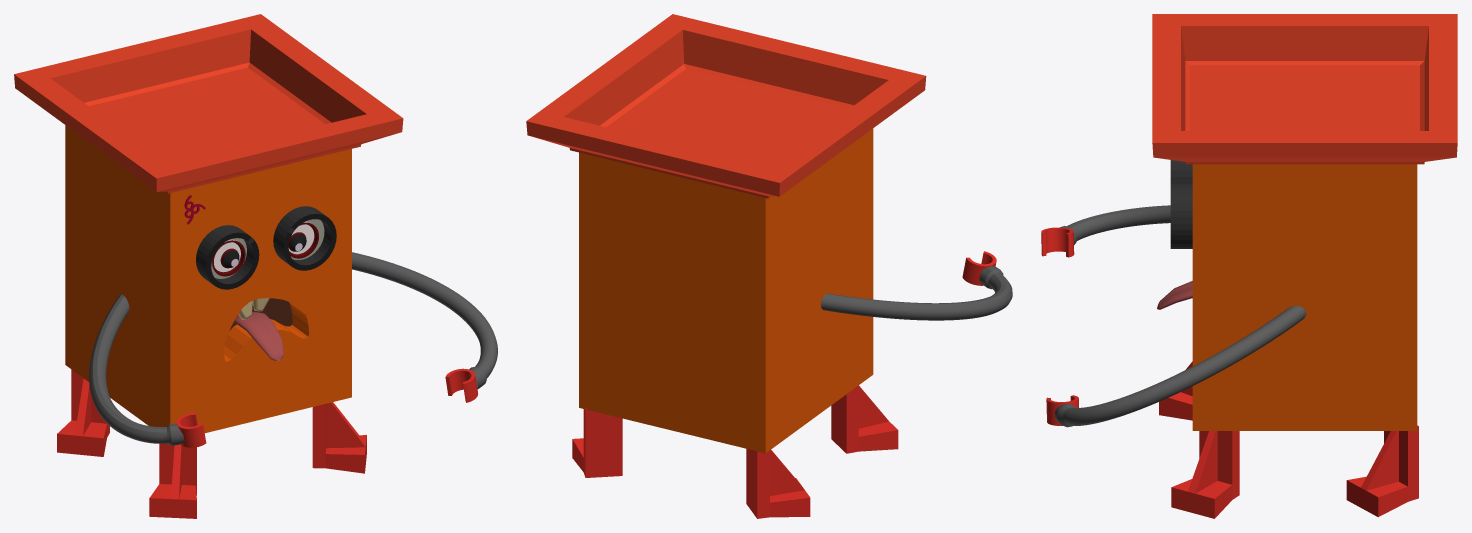
File: monster_sampah_fix.fbx
3 renders of one model, left to right at view 1: azimuth 30°, elevation 25°; view 2: azimuth 150°, elevation 25°; view 3: azimuth 270°, elevation 25°, orthographic. The views are drawn at different scales.
Visible parts, largest first — view 1: Cube.141, Cylinder.043, NurbsPath.001, NurbsPath, Cube.136, Cube.134, Cube.135, Cylinder.042, Cylinder.040, Cylinder.041, Cube.138; view 2: Cube.141, NurbsPath, Cube.135, Cube.134, Cube.137, Cylinder.041; view 3: Cube.141, NurbsPath.001, Cube.137, Cube.136, Cylinder.043, NurbsPath, Cylinder.041, Cube.134, Cylinder.042.
Boxes of the visible parts, left/top/right/bottom form: Cube.141: left=14, top=14, right=403, bottom=433; Cylinder.043: left=196, top=206, right=336, bottom=289; NurbsPath.001: left=352, top=252, right=497, bottom=389; NurbsPath: left=89, top=294, right=184, bottom=445; Cube.136: left=312, top=402, right=366, bottom=473; Cube.134: left=149, top=443, right=196, bottom=518; Cube.135: left=57, top=369, right=109, bottom=456; Cylinder.042: left=234, top=311, right=284, bottom=361; Cylinder.040: left=445, top=368, right=477, bottom=402; Cylinder.041: left=176, top=413, right=206, bottom=447; Cube.138: left=229, top=298, right=292, bottom=330; Cube.141: left=526, top=14, right=926, bottom=453; NurbsPath: left=820, top=266, right=1012, bottom=320; Cube.135: left=746, top=448, right=810, bottom=518; Cube.134: left=831, top=385, right=898, bottom=453; Cube.137: left=572, top=408, right=622, bottom=477; Cylinder.041: left=962, top=251, right=996, bottom=285; Cube.141: left=1152, top=14, right=1457, bottom=430; NurbsPath.001: left=1054, top=305, right=1306, bottom=427; Cube.137: left=1346, top=425, right=1418, bottom=517; Cube.136: left=1171, top=431, right=1239, bottom=518; Cylinder.043: left=1170, top=160, right=1192, bottom=248; NurbsPath: left=1060, top=205, right=1170, bottom=244; Cylinder.041: left=1041, top=227, right=1074, bottom=257; Cube.134: left=1159, top=361, right=1192, bottom=420; Cylinder.042: left=1157, top=281, right=1192, bottom=309.
Size of the model in its own units: 1413 by 1258 by 1250.
